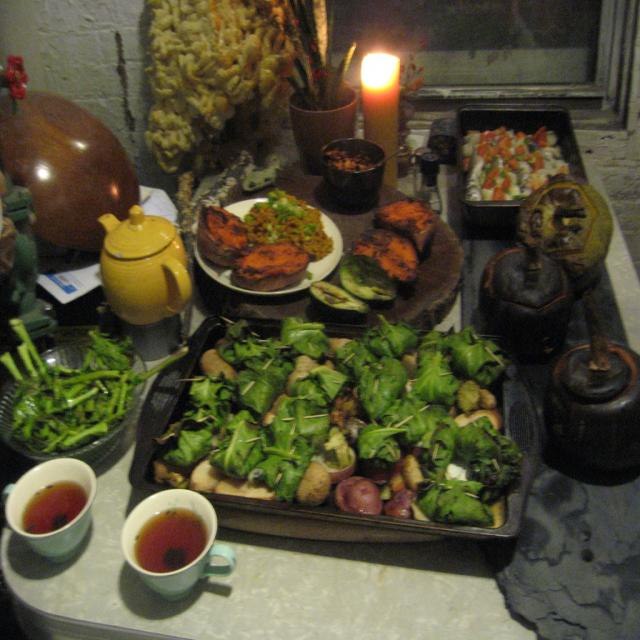Tea: (134, 508, 207, 571), (24, 482, 84, 533)
